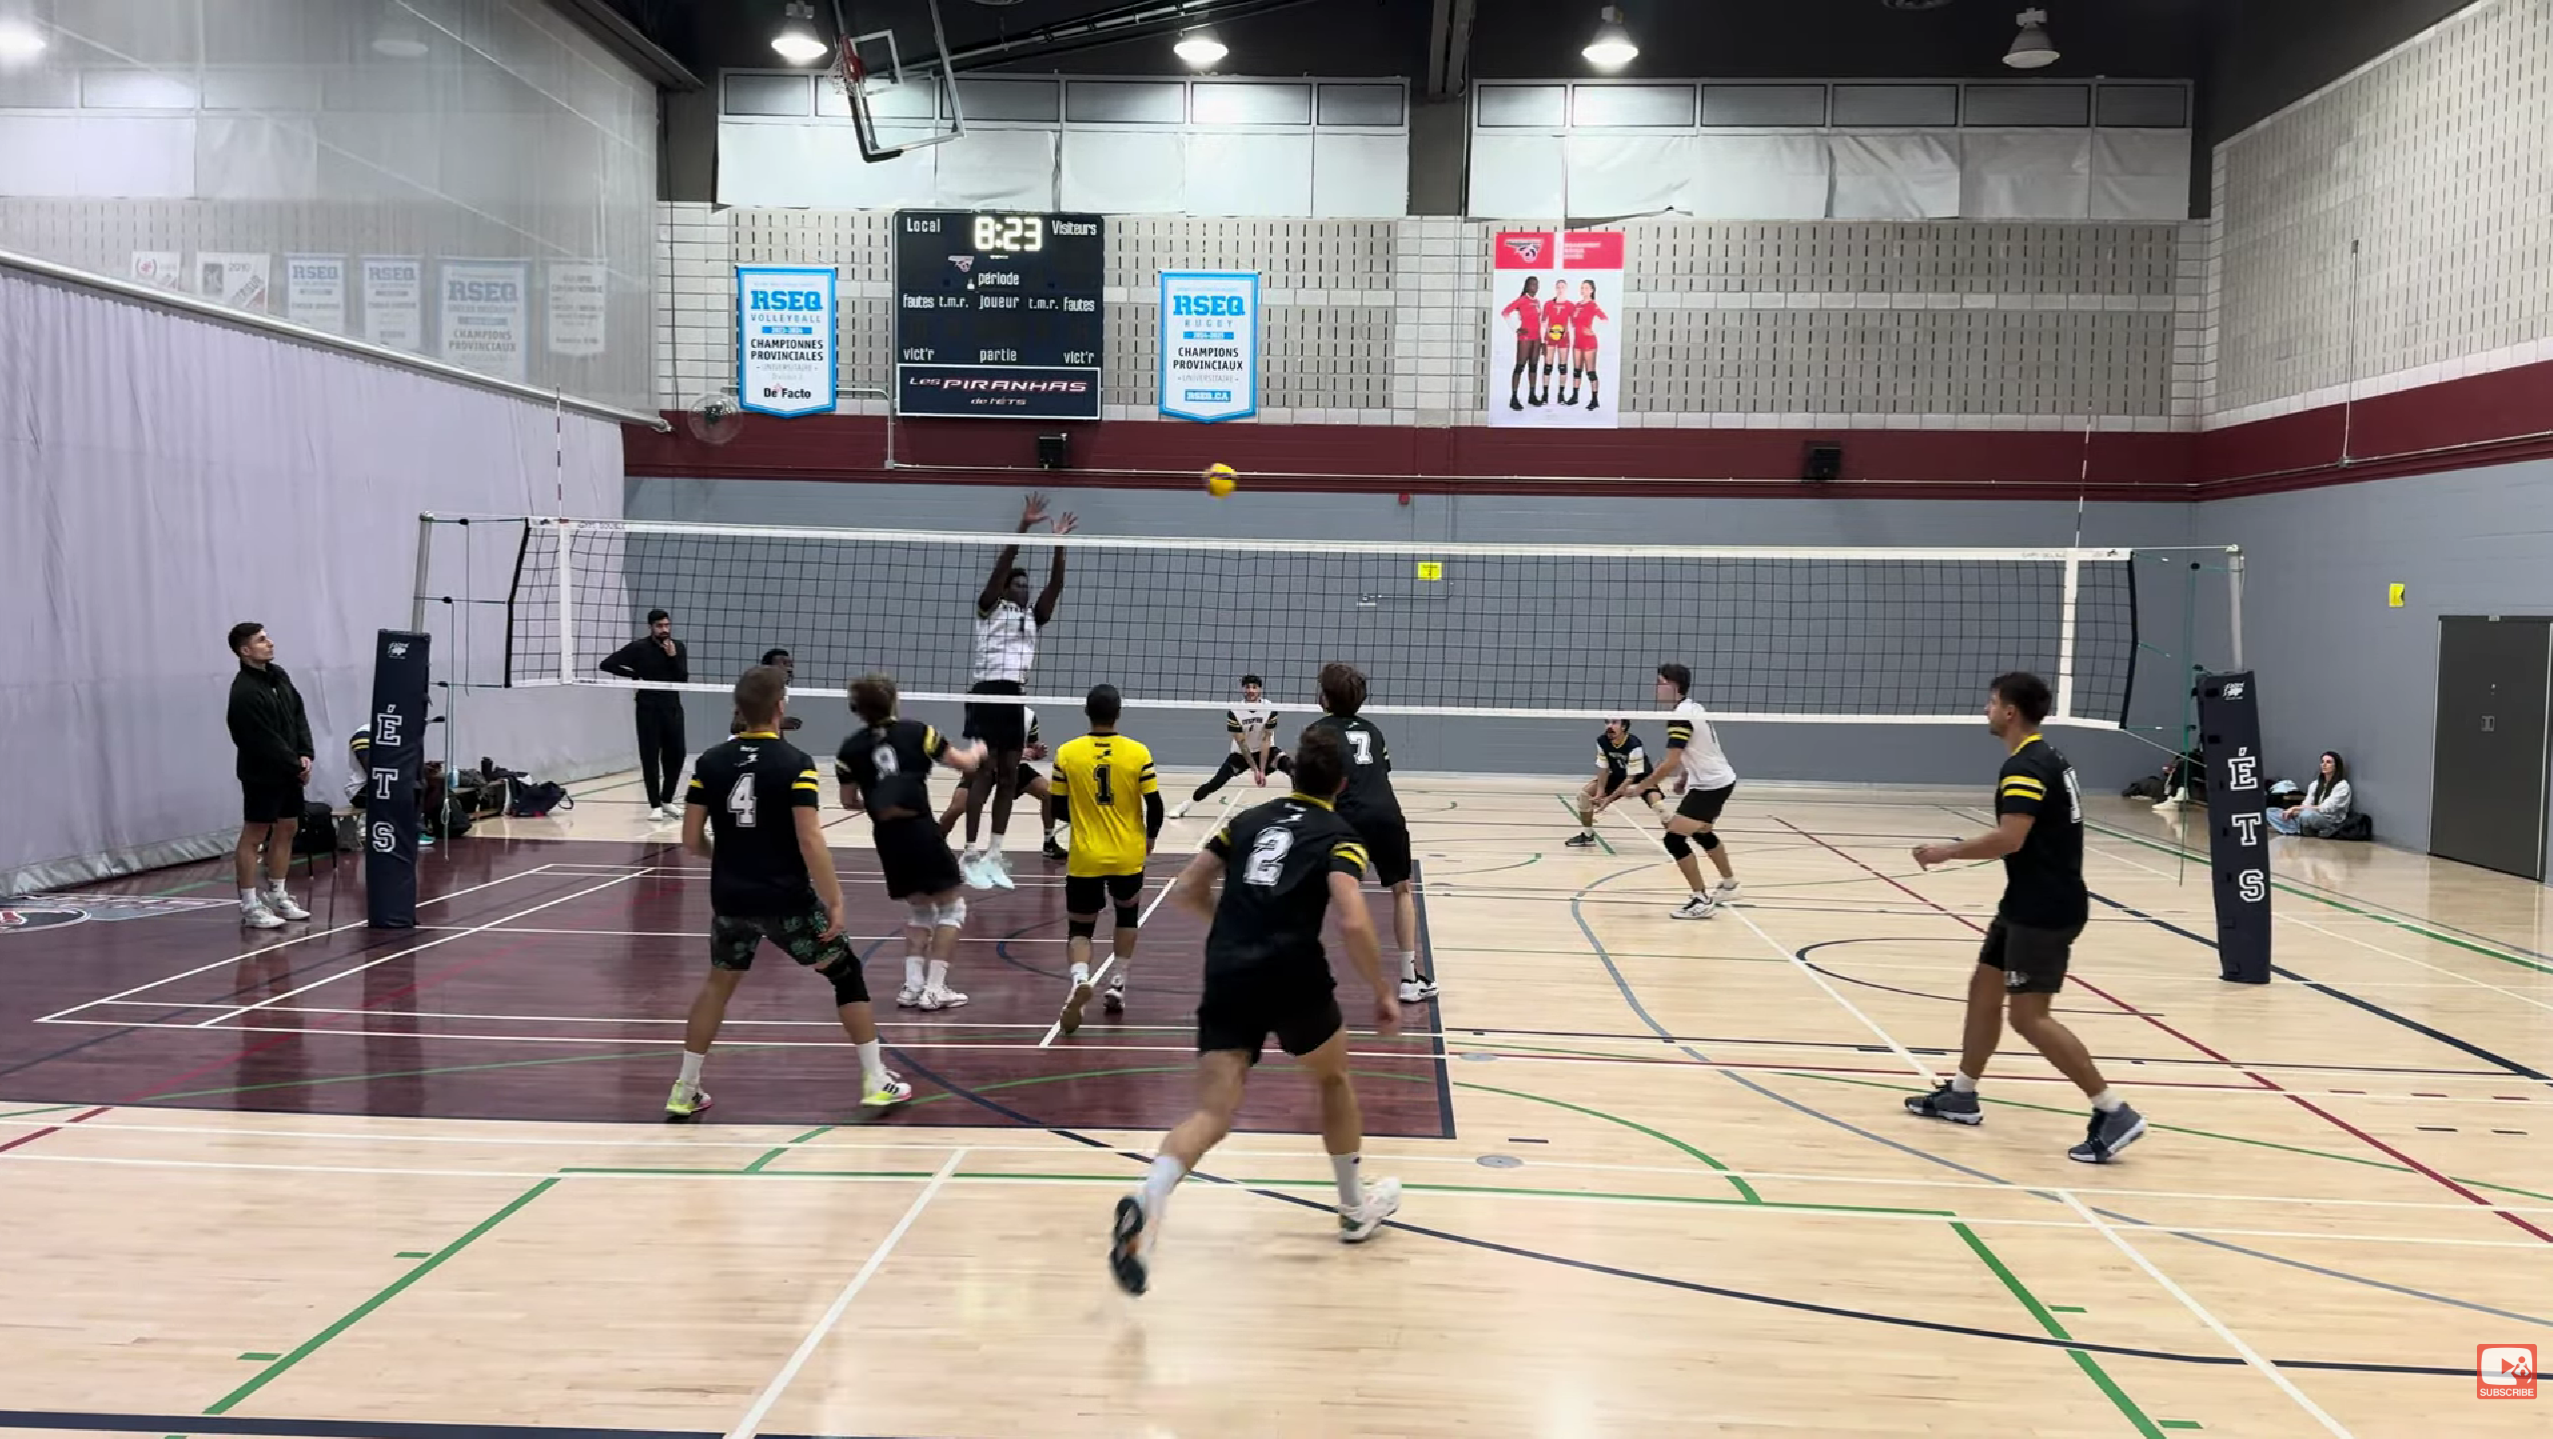Ball: (1199, 463, 1238, 501)
